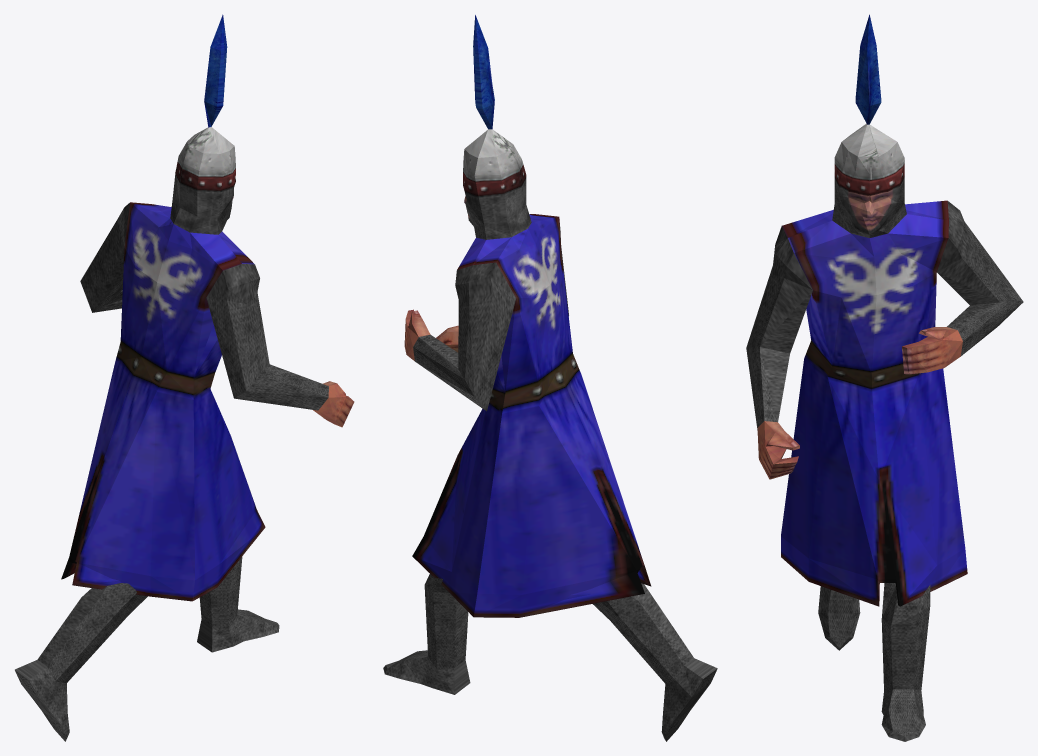
File: guard_run9.obj
3 renders of one model, left to right at view 1: azimuth 30°, elevation 25°; view 2: azimuth 150°, elevation 25°; view 3: azimuth 270°, elevation 25°, orthographic. The views are drawn at different scales.
Parts seen in each view (by area): view 1: Object_1; view 2: Object_1; view 3: Object_1.
Part boxes in pixels (x1=…): Object_1: x1=15, y1=14, x2=354, y2=741; Object_1: x1=383, y1=15, x2=717, y2=741; Object_1: x1=746, y1=14, x2=1023, y2=741.
Bounding box in the file's own units: 1.03 × 2.21 × 0.7638.
1 material, 1 textured.
